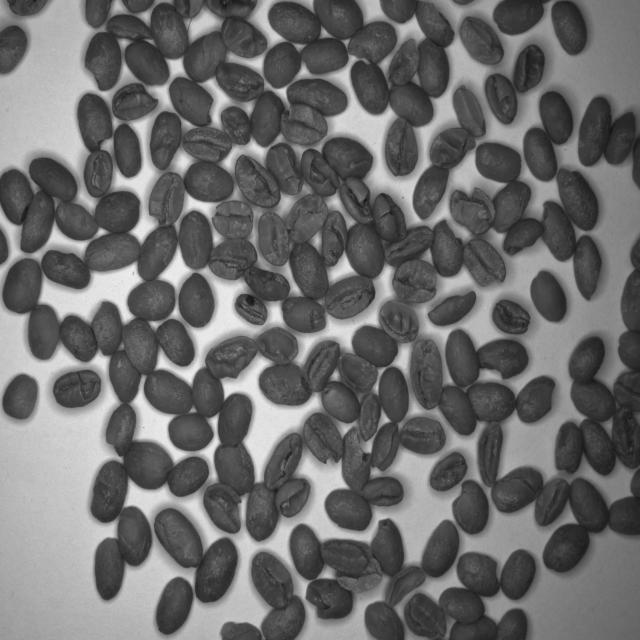bad: (554, 165, 601, 234), (234, 151, 282, 211), (491, 463, 544, 516), (179, 28, 228, 83), (250, 550, 294, 611), (206, 334, 260, 382), (256, 360, 312, 406), (411, 334, 444, 412), (323, 275, 378, 321), (84, 29, 124, 92), (448, 184, 496, 236), (463, 236, 509, 290), (302, 407, 344, 466), (285, 193, 330, 248), (168, 75, 214, 128), (299, 335, 341, 393), (214, 438, 256, 496), (489, 178, 532, 234), (474, 337, 530, 380), (539, 198, 576, 263), (458, 15, 506, 65), (450, 476, 490, 535), (264, 430, 304, 489), (381, 116, 419, 178), (389, 258, 438, 306), (209, 233, 259, 280), (219, 16, 270, 62), (120, 318, 159, 378), (382, 560, 427, 612), (568, 376, 616, 424), (42, 245, 92, 291), (263, 140, 304, 196), (317, 535, 373, 576), (249, 88, 286, 150), (339, 422, 372, 491), (299, 146, 341, 200), (279, 100, 328, 146), (427, 126, 477, 171), (147, 170, 185, 229), (349, 58, 389, 114), (572, 233, 604, 303), (76, 92, 112, 154), (402, 591, 447, 640), (346, 21, 398, 63), (180, 123, 232, 165), (514, 372, 556, 424), (148, 109, 182, 173), (0, 165, 35, 227), (456, 548, 501, 596), (304, 577, 353, 621), (215, 59, 265, 102), (384, 224, 434, 267), (371, 516, 405, 578), (203, 481, 242, 535), (153, 316, 194, 367), (89, 298, 124, 357), (93, 191, 143, 232), (431, 216, 464, 278), (567, 330, 606, 382), (413, 0, 455, 48), (258, 210, 292, 269), (483, 72, 520, 126), (255, 322, 299, 367), (400, 414, 447, 456), (110, 82, 159, 122), (52, 368, 101, 408), (333, 556, 384, 594), (336, 349, 379, 394), (503, 215, 545, 260), (372, 190, 408, 242), (534, 474, 570, 526), (210, 198, 254, 240), (378, 298, 420, 342), (453, 84, 487, 138), (428, 288, 476, 326), (301, 38, 350, 75), (512, 43, 548, 93), (610, 410, 640, 470), (106, 400, 137, 458), (338, 177, 374, 226), (428, 449, 468, 493), (281, 295, 327, 333), (370, 418, 402, 472), (320, 381, 360, 424), (478, 422, 504, 488), (274, 476, 313, 520), (320, 208, 348, 269), (245, 266, 291, 302), (491, 298, 533, 337), (82, 146, 113, 198), (389, 37, 420, 87), (554, 419, 582, 474), (218, 102, 252, 147), (232, 291, 270, 329), (360, 478, 404, 508), (107, 13, 152, 42), (358, 392, 382, 444), (220, 615, 262, 640)
good: (152, 506, 204, 571), (194, 534, 238, 605), (135, 224, 181, 284), (576, 93, 612, 169), (541, 520, 591, 574), (285, 76, 349, 118), (123, 440, 174, 492), (345, 220, 387, 282), (388, 75, 436, 129), (155, 573, 194, 638), (268, 1, 323, 47), (288, 242, 330, 302), (422, 518, 462, 581), (116, 503, 154, 569), (28, 156, 78, 206), (245, 475, 281, 544), (143, 368, 194, 416), (90, 459, 128, 523), (1, 257, 44, 313), (322, 136, 374, 182), (19, 190, 56, 254), (412, 161, 450, 223), (568, 478, 610, 534), (323, 487, 372, 535), (444, 326, 481, 388), (183, 159, 235, 203), (549, 0, 589, 57), (151, 2, 190, 60), (474, 139, 522, 186), (124, 39, 169, 88), (580, 416, 615, 479), (180, 269, 216, 330), (529, 267, 568, 323), (60, 308, 99, 364), (95, 536, 129, 600), (537, 90, 575, 147), (351, 322, 398, 368), (260, 594, 307, 640), (126, 279, 176, 322), (417, 35, 450, 100), (522, 125, 557, 186), (26, 302, 61, 363), (85, 232, 141, 270), (467, 381, 515, 425), (1, 370, 39, 425), (289, 523, 325, 581), (312, 0, 364, 40), (217, 392, 254, 447), (602, 106, 637, 164), (438, 385, 477, 437), (55, 197, 99, 243), (180, 210, 213, 270), (500, 547, 536, 602), (166, 411, 214, 452), (491, 0, 547, 35), (437, 584, 486, 624), (112, 122, 145, 180), (378, 367, 411, 425), (262, 41, 302, 88), (108, 350, 141, 406), (188, 365, 224, 416), (364, 599, 404, 640), (1, 22, 31, 76), (606, 492, 640, 537), (620, 267, 640, 332), (448, 613, 496, 640), (497, 603, 530, 640), (613, 370, 640, 412), (376, 0, 418, 26), (613, 330, 640, 370), (83, 0, 114, 29), (462, 604, 471, 611)
